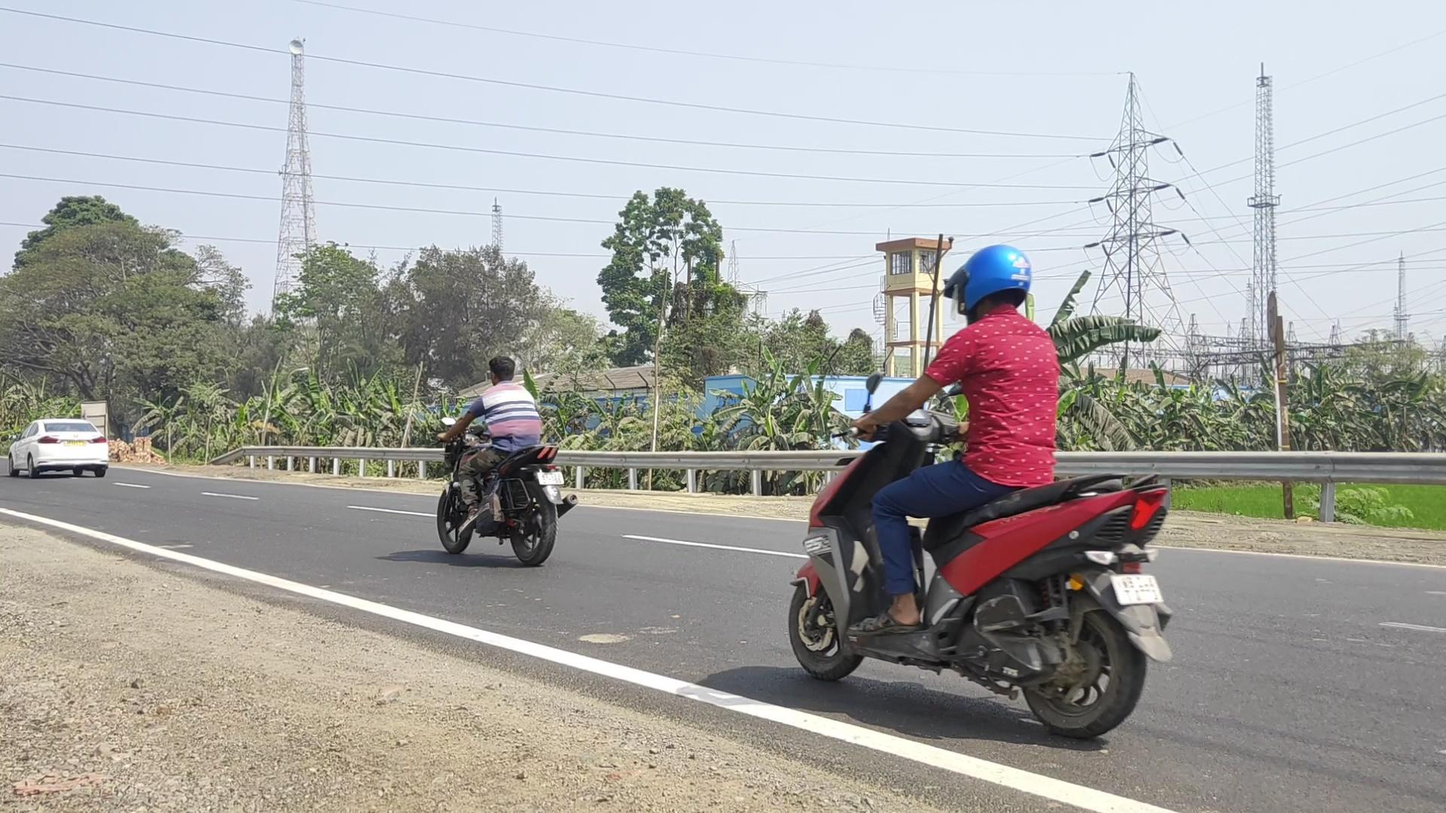bike: (788, 245, 1173, 738), (433, 357, 578, 566)
car: (8, 419, 109, 478)
